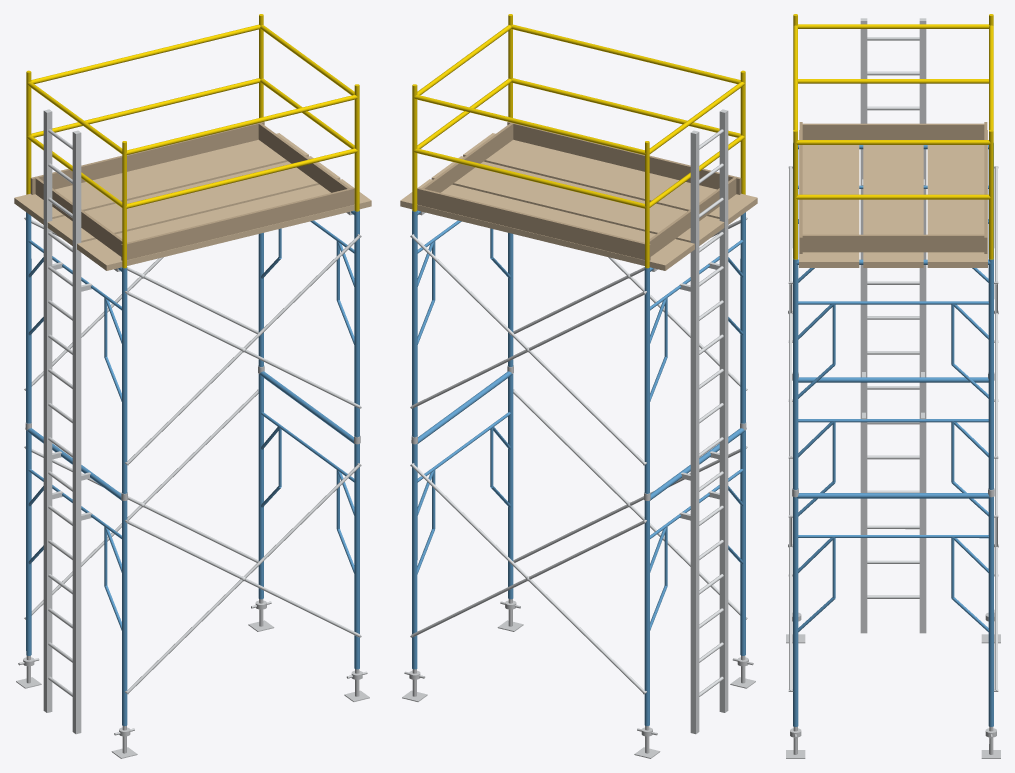
Rendered from Frame_Scaffold_Tower.glb.
3 renders of one model, left to right at view 1: azimuth 30°, elevation 25°; view 2: azimuth 150°, elevation 25°; view 3: azimuth 270°, elevation 25°, orthographic. The views are drawn at different scales.
Visible parts, largest first — view 1: cross_braces, planks, frames, toeboards, guardrails, lock_pins; view 2: cross_braces, planks, frames, toeboards, guardrails, lock_pins; view 3: planks, cross_braces, frames, toeboards, guardrails, lock_pins.
Part boxes in pixels (x1,y1,x2,y2): cross_braces: (25, 109, 360, 734); planks: (14, 133, 371, 270); frames: (26, 210, 359, 726); toeboards: (30, 122, 354, 260); guardrails: (26, 14, 359, 268); lock_pins: (16, 217, 369, 758); cross_braces: (411, 109, 746, 734); planks: (400, 133, 757, 270); frames: (412, 210, 745, 726); toeboards: (417, 122, 741, 260); guardrails: (412, 14, 745, 268); lock_pins: (402, 217, 755, 758); planks: (799, 130, 987, 267); cross_braces: (788, 18, 998, 690); frames: (793, 143, 993, 726); toeboards: (799, 122, 987, 253); guardrails: (793, 14, 993, 259); lock_pins: (786, 166, 1000, 758).
Size of the model in its own units: 48.77 by 107 by 33.48.
